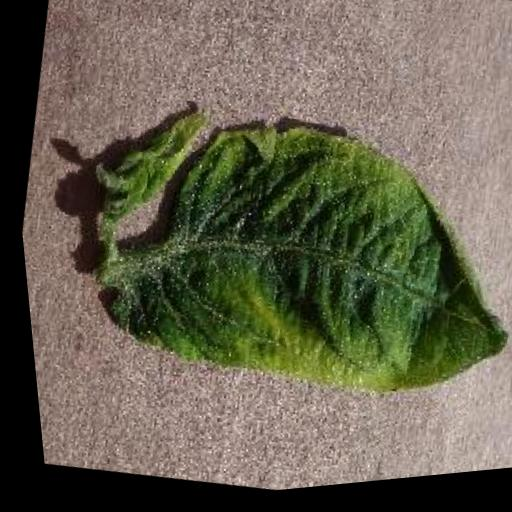Yellow Leaf Curl Virus: (70, 75, 512, 448)
